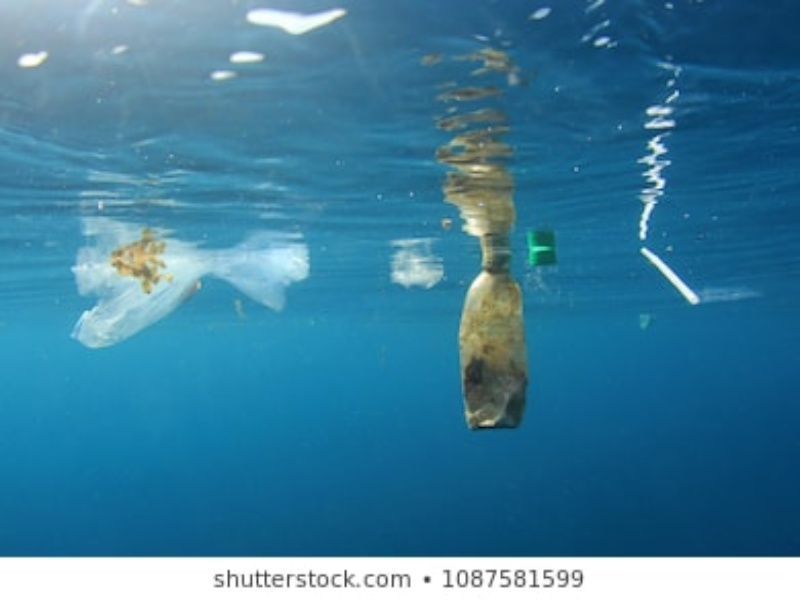bottle-cap: (527, 245, 557, 266)
plastic-bag: (71, 240, 314, 343), (391, 258, 449, 292)
plastic-bottle: (459, 240, 532, 433)
straw: (638, 247, 706, 309)
